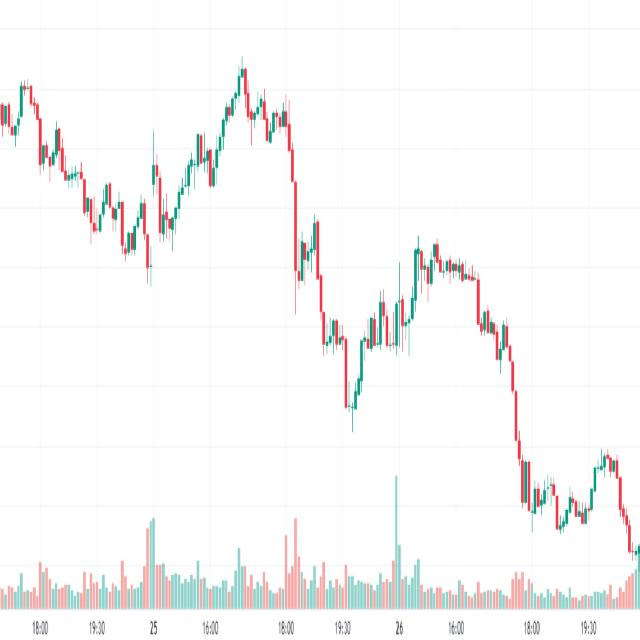Channel-down: (12, 36, 159, 315)
Double-Bottom: (547, 448, 604, 543)
Head-Shoulders: (353, 214, 540, 521), (169, 47, 330, 386)
Inverse-Head-Shoulders: (309, 188, 418, 426)
